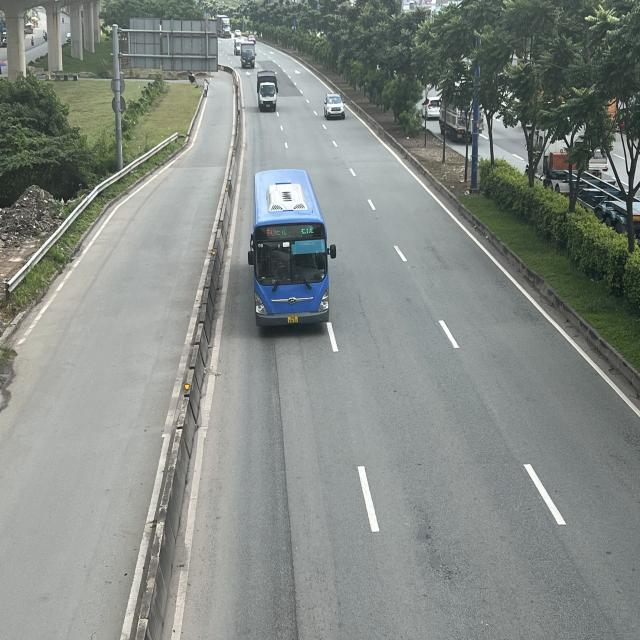car: (324, 93, 344, 118), (233, 28, 242, 38)
coach: (246, 169, 336, 330)
container: (218, 16, 232, 40)
truck: (257, 72, 278, 112), (241, 42, 256, 70)
